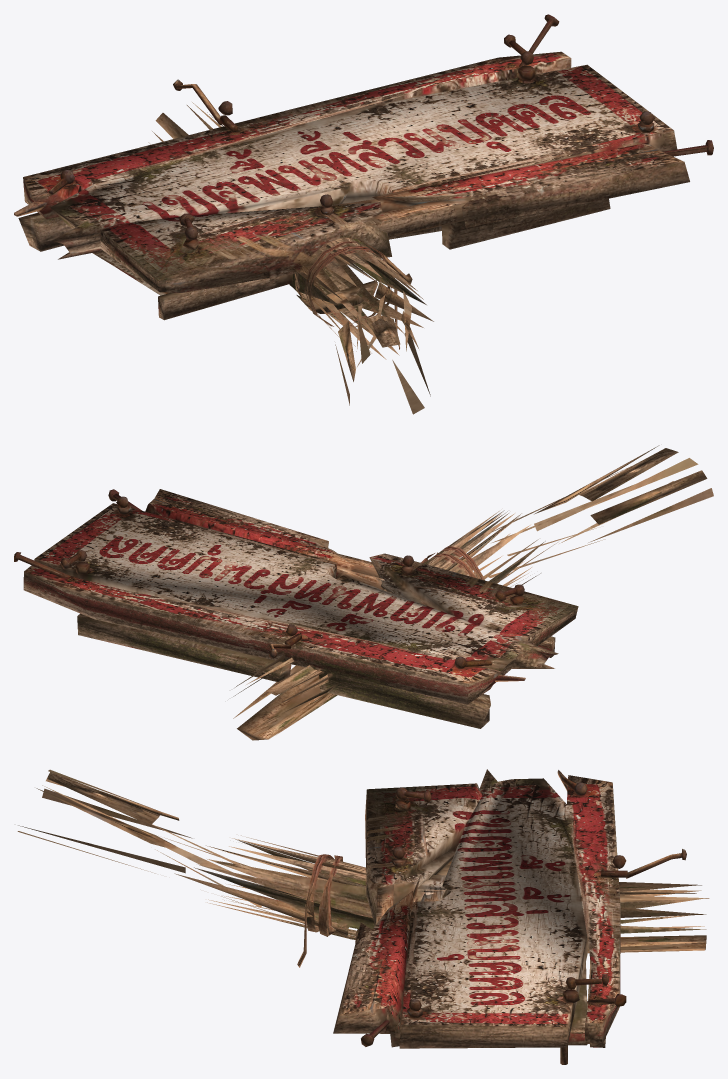
Rendered from Meshy_AI_Weathered_Thai_Wooden_Sign_20261028_texture.fbx.
The picture shows the model from 3 angles, top to bottom: view 1: azimuth 30°, elevation 25°; view 2: azimuth 150°, elevation 25°; view 3: azimuth 270°, elevation 25°; orthographic projection. The views are drawn at different scales.
Parts seen in each view (by area): view 1: Mesh_0; view 2: Mesh_0; view 3: Mesh_0.
Part boxes in pixels (<box>): Mesh_0: <box>14,14,713,414</box>; Mesh_0: <box>14,445,713,740</box>; Mesh_0: <box>17,769,709,1064</box>.
Size of the model in its own units: 86.62 by 19.24 by 95.21.
Materials: 1 (1 with a texture image).
